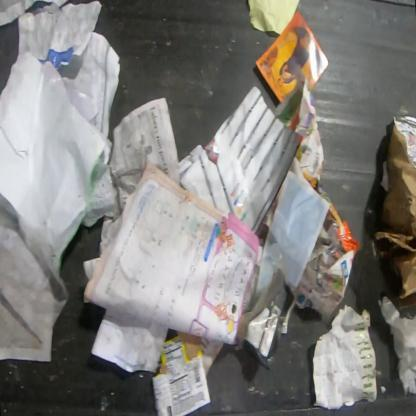cardboard: (373, 122, 415, 313), (310, 304, 378, 411), (150, 330, 212, 416)
soft_plastic: (0, 205, 71, 345), (377, 295, 415, 399)
